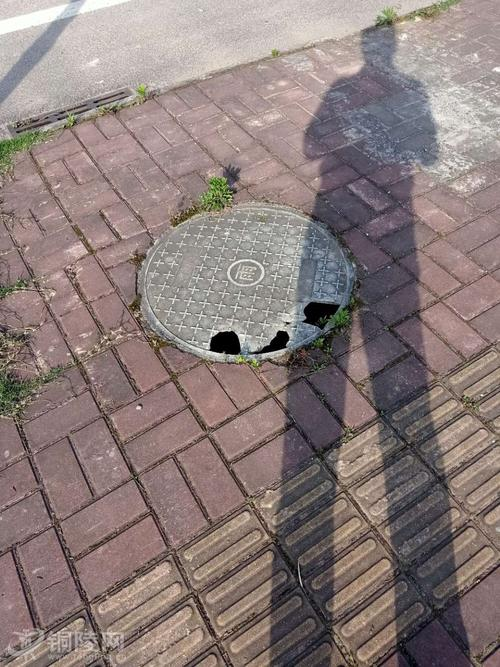broke: (126, 189, 371, 371)
